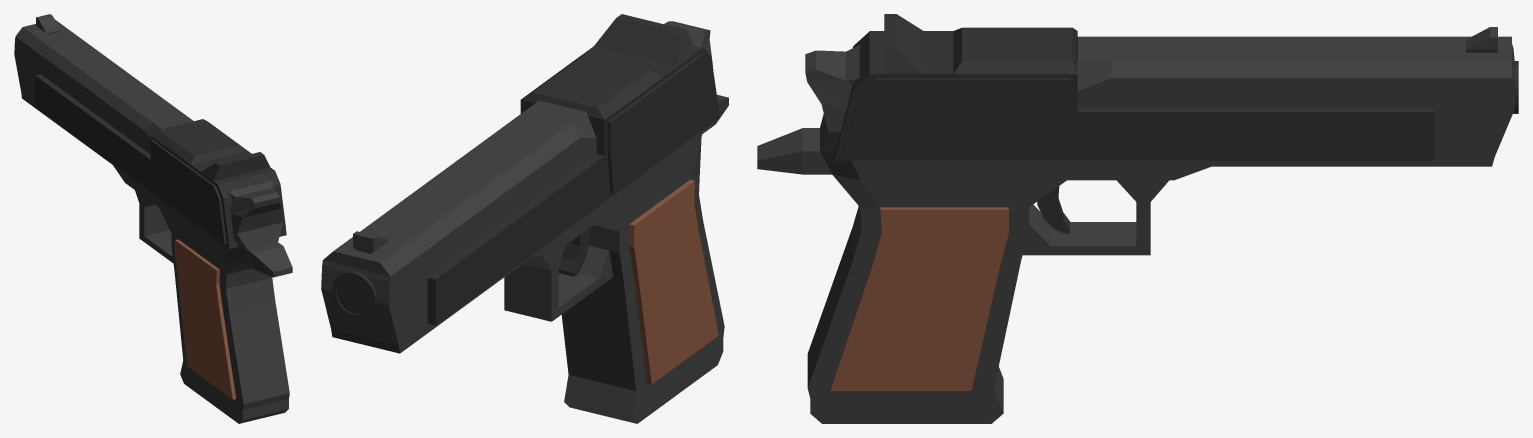
The model's file is scene_UWV2WnwSVA.glb.
3 renders of one model, left to right at view 1: azimuth 30°, elevation 25°; view 2: azimuth 150°, elevation 25°; view 3: azimuth 270°, elevation 25°, orthographic. The views are drawn at different scales.
Parts seen in each view (by area): view 1: Base, top; view 2: Base, top, shooter, Trigger; view 3: Base, top, Trigger.
Boxes of the visible parts, x1=… form: Base: x1=14, y1=14, x2=292, y2=423; top: x1=35, y1=74, x2=286, y2=248; Base: x1=321, y1=21, x2=728, y2=423; top: x1=427, y1=14, x2=719, y2=325; shooter: x1=332, y1=270, x2=376, y2=319; Trigger: x1=558, y1=228, x2=589, y2=276; Base: x1=757, y1=27, x2=1515, y2=423; top: x1=834, y1=14, x2=1433, y2=160; Trigger: x1=1037, y1=186, x2=1069, y2=233.
Bounding box in the file's own units: 0.4604 × 1.74 × 3.19.
